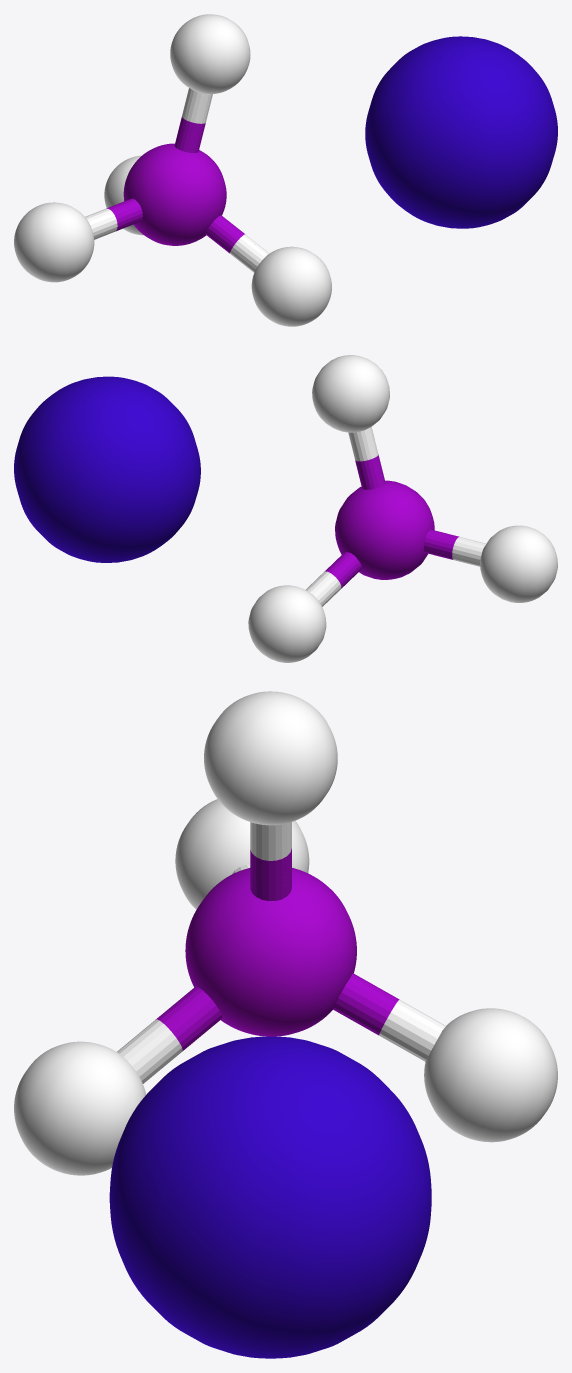
Rendered from NaBH4.obj.
The picture shows the model from 3 angles, top to bottom: view 1: azimuth 30°, elevation 25°; view 2: azimuth 150°, elevation 25°; view 3: azimuth 270°, elevation 25°; orthographic projection. The views are drawn at different scales.
Parts seen in each view (by area): view 1: Sodium_ball_SurfSphere.002, Boron_ball_SurfSphere, Hydrogen_ball_SurfSphere.001, Hydrogen_ball_SurfSphere.001.000, Hydrogen_ball_SurfSphere.001.001, Hydrogen_ball_SurfSphere.001.002; view 2: Sodium_ball_SurfSphere.002, Boron_ball_SurfSphere, Hydrogen_ball_SurfSphere.001.000, Hydrogen_ball_SurfSphere.001.002, Hydrogen_ball_SurfSphere.001; view 3: Sodium_ball_SurfSphere.002, Boron_ball_SurfSphere, Hydrogen_ball_SurfSphere.001.000, Hydrogen_ball_SurfSphere.001.002, Hydrogen_ball_SurfSphere.001.001, Hydrogen_ball_SurfSphere.001.
Part boxes in pixels (x1,y1,x2,y2): Sodium_ball_SurfSphere.002: (365, 36, 557, 228); Boron_ball_SurfSphere: (123, 143, 226, 245); Hydrogen_ball_SurfSphere.001: (14, 202, 94, 282); Hydrogen_ball_SurfSphere.001.000: (170, 14, 250, 94); Hydrogen_ball_SurfSphere.001.001: (251, 246, 331, 326); Hydrogen_ball_SurfSphere.001.002: (104, 155, 143, 235); Sodium_ball_SurfSphere.002: (14, 376, 200, 562); Boron_ball_SurfSphere: (335, 480, 434, 579); Hydrogen_ball_SurfSphere.001.000: (312, 355, 389, 432); Hydrogen_ball_SurfSphere.001.002: (248, 585, 326, 662); Hydrogen_ball_SurfSphere.001: (480, 525, 557, 602); Sodium_ball_SurfSphere.002: (109, 1036, 431, 1358); Boron_ball_SurfSphere: (185, 868, 356, 1036); Hydrogen_ball_SurfSphere.001.000: (204, 691, 337, 825); Hydrogen_ball_SurfSphere.001.002: (424, 1008, 557, 1142); Hydrogen_ball_SurfSphere.001.001: (14, 1041, 146, 1175); Hydrogen_ball_SurfSphere.001: (175, 799, 309, 909).
Size of the model in its own units: 1.48 by 0.7142 by 0.7802.
